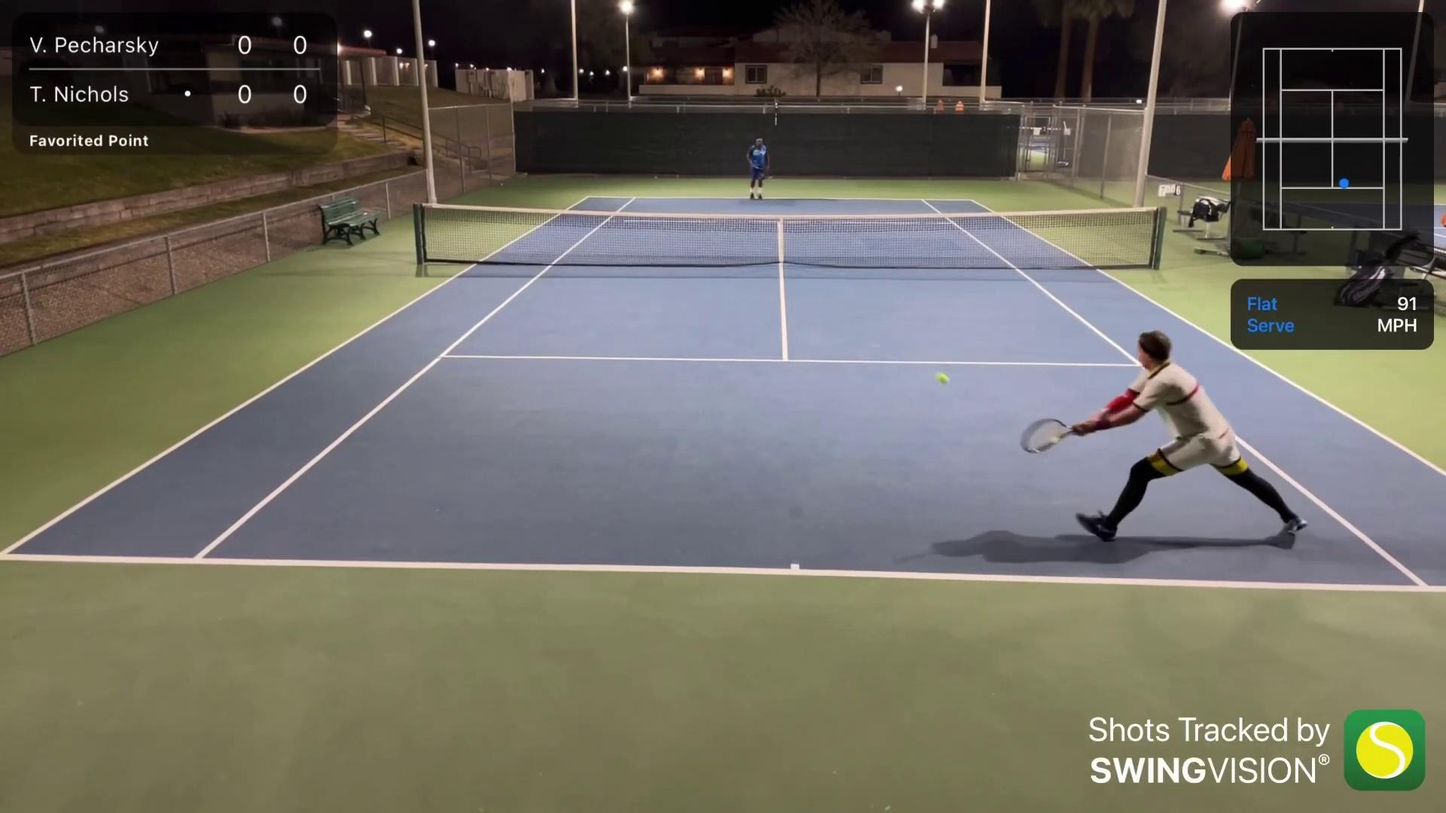ball: (938, 370, 950, 387), (653, 176, 658, 179), (499, 183, 504, 186)
